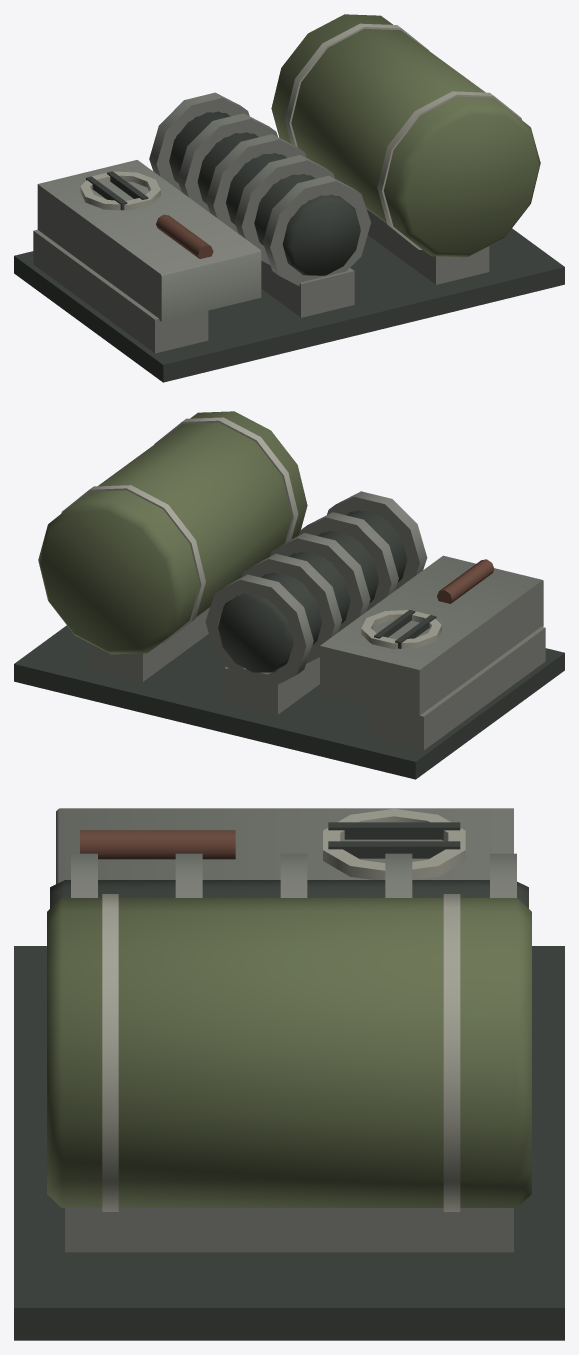
The model's file is bioferrite_generator.obj.
3 views of the same model, one above another, from view 1: azimuth 30°, elevation 25°; view 2: azimuth 150°, elevation 25°; view 3: azimuth 270°, elevation 25° (orthographic). The views are drawn at different scales.
Visible parts, largest first — view 1: source_component_004, source_component_000, source_component_013, source_component_007, source_component_001, source_component_008, source_component_002, source_component_003, source_component_009, source_component_012, source_component_011, source_component_010 (+4 smaller); view 2: source_component_004, source_component_000, source_component_013, source_component_007, source_component_001, source_component_012, source_component_003, source_component_011, source_component_002, source_component_010, source_component_008, source_component_009 (+4 smaller); view 3: source_component_004, source_component_000, source_component_003, source_component_013, source_component_007, source_component_006, source_component_005, source_component_017, source_component_014, source_component_015, source_component_016, source_component_009 (+4 smaller).
Boxes of the visible parts, x1,y1,x2,y2 form: source_component_004: [271, 14, 540, 257]; source_component_000: [14, 228, 564, 382]; source_component_013: [37, 160, 261, 321]; source_component_007: [169, 111, 360, 275]; source_component_001: [33, 229, 208, 353]; source_component_008: [263, 175, 370, 286]; source_component_002: [261, 261, 354, 317]; source_component_003: [366, 209, 489, 284]; source_component_009: [234, 155, 334, 264]; source_component_012: [149, 92, 249, 191]; source_component_011: [177, 113, 277, 212]; source_component_010: [206, 134, 306, 233]; source_component_004: [38, 411, 307, 654]; source_component_000: [14, 625, 564, 779]; source_component_013: [320, 555, 543, 715]; source_component_007: [218, 510, 407, 672]; source_component_001: [370, 626, 545, 750]; source_component_012: [205, 574, 313, 687]; source_component_003: [89, 608, 209, 681]; source_component_011: [242, 553, 341, 663]; source_component_002: [224, 657, 319, 714]; source_component_010: [270, 533, 370, 631]; source_component_008: [327, 491, 427, 590]; source_component_009: [298, 512, 398, 611]; source_component_004: [47, 898, 531, 1207]; source_component_000: [14, 946, 564, 1340]; source_component_003: [65, 1208, 513, 1252]; source_component_013: [56, 808, 513, 883]; source_component_007: [50, 880, 528, 908]; source_component_006: [443, 894, 460, 1211]; source_component_005: [102, 894, 118, 1211]; source_component_017: [80, 830, 235, 859]; source_component_014: [323, 808, 465, 879]; source_component_015: [328, 822, 460, 839]; source_component_016: [328, 841, 460, 858]; source_component_009: [175, 853, 202, 897].
Size of the model in its own units: 2.86 by 1.31 by 1.84.
